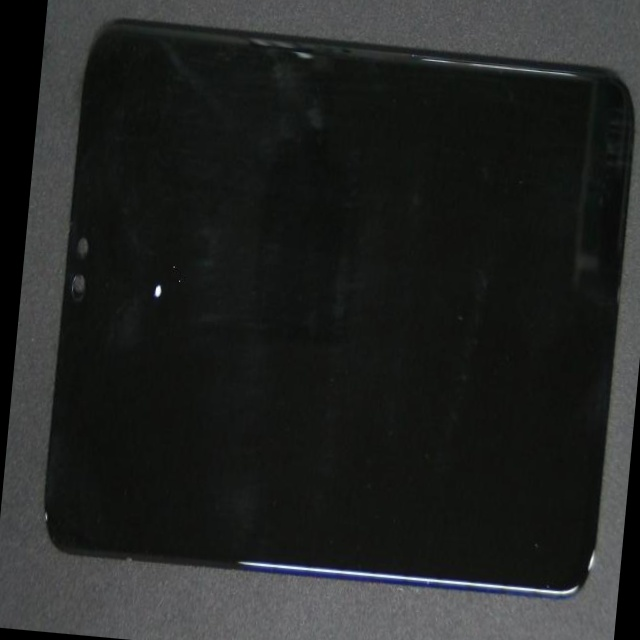stain: (59, 76, 229, 493)
